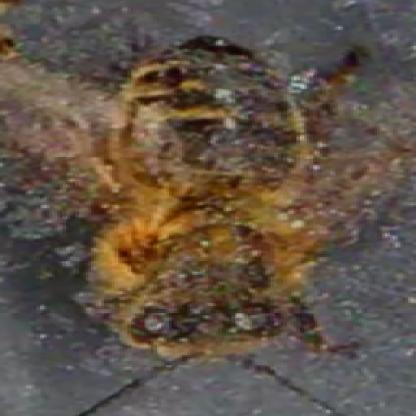bee: (83, 38, 313, 352)
